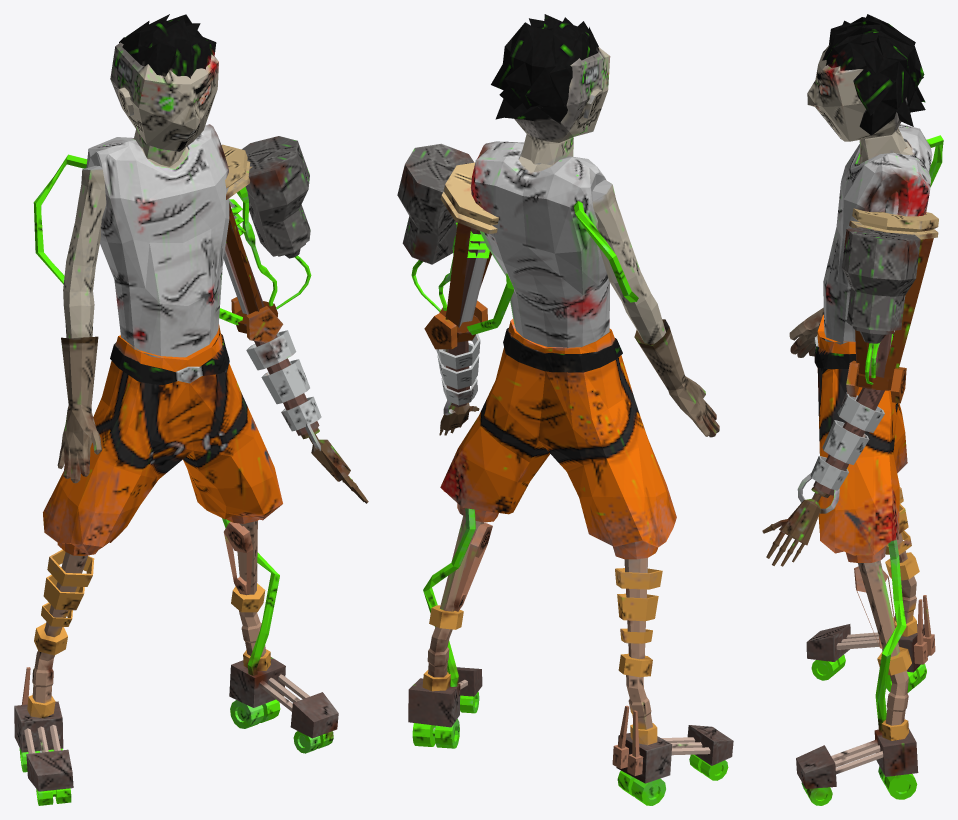
File: CyborgFINALAnimation_000000.obj
The picture shows the model from 3 angles, left to right: view 1: azimuth 30°, elevation 25°; view 2: azimuth 150°, elevation 25°; view 3: azimuth 270°, elevation 25°; orthographic projection. The views are drawn at different scales.
Parts seen in each view (by area): view 1: CyborgMesh_Cube.002; view 2: CyborgMesh_Cube.002; view 3: CyborgMesh_Cube.002.
Part boxes in pixels (x1=…): CyborgMesh_Cube.002: x1=14, y1=14, x2=368, y2=805; CyborgMesh_Cube.002: x1=397, y1=14, x2=733, y2=805; CyborgMesh_Cube.002: x1=762, y1=14, x2=943, y2=805.
Bounding box in the file's own units: 4.2 × 9.64 × 2.19.
